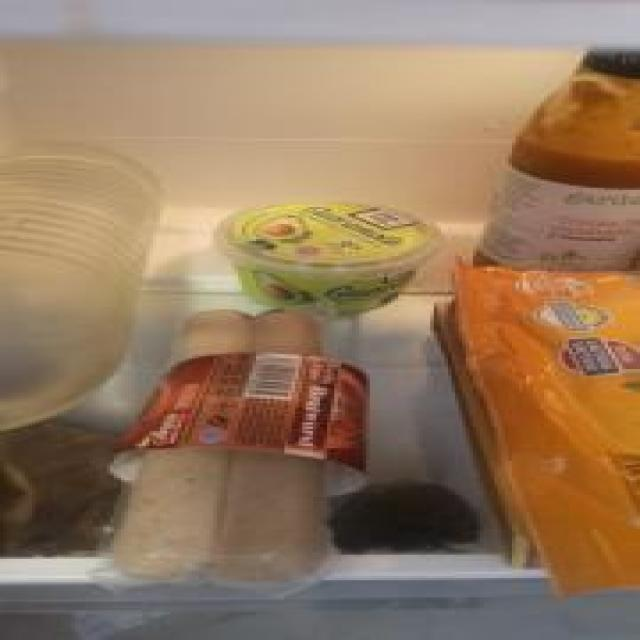guacamole: (213, 198, 448, 316)
sausage: (103, 307, 381, 602)
